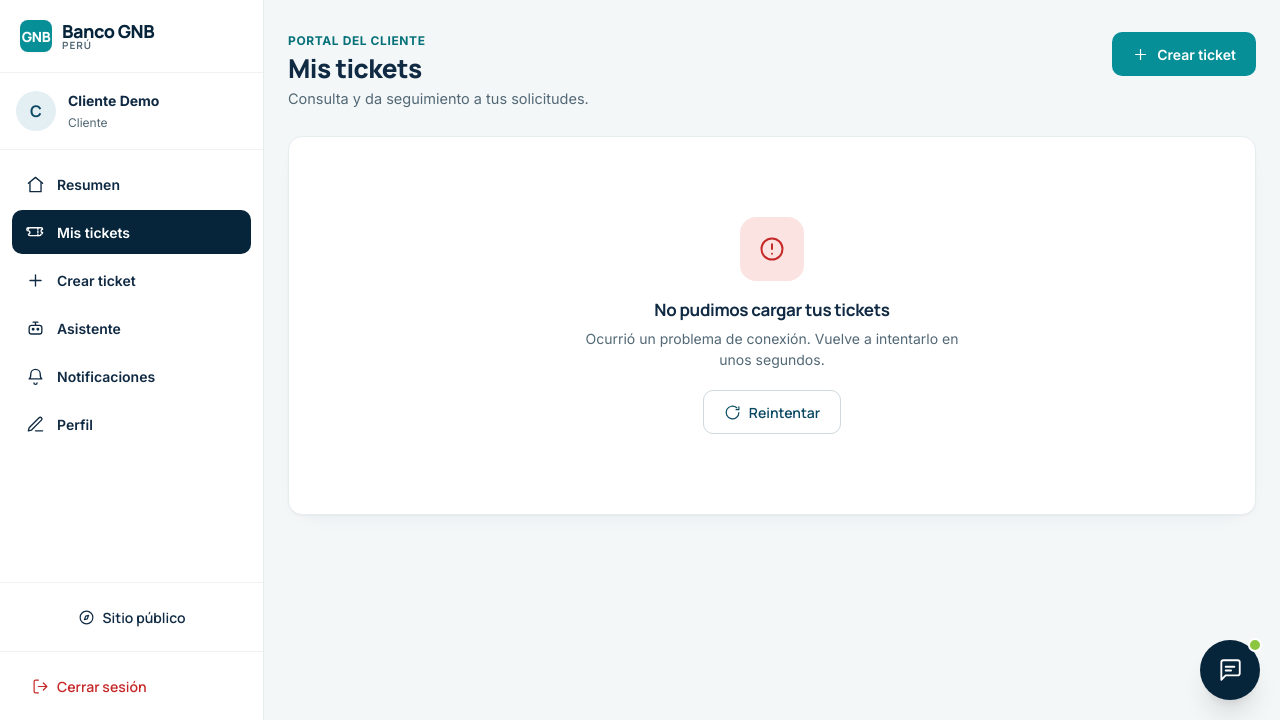
Test: bandeja de tickets del cliente › muestra error y reintenta la bandeja
Expected: the message shows "No pudimos cargar tus tickets", [654,298,890,321]
Click the button "Reintentar": (772, 412) [703,390,841,434]
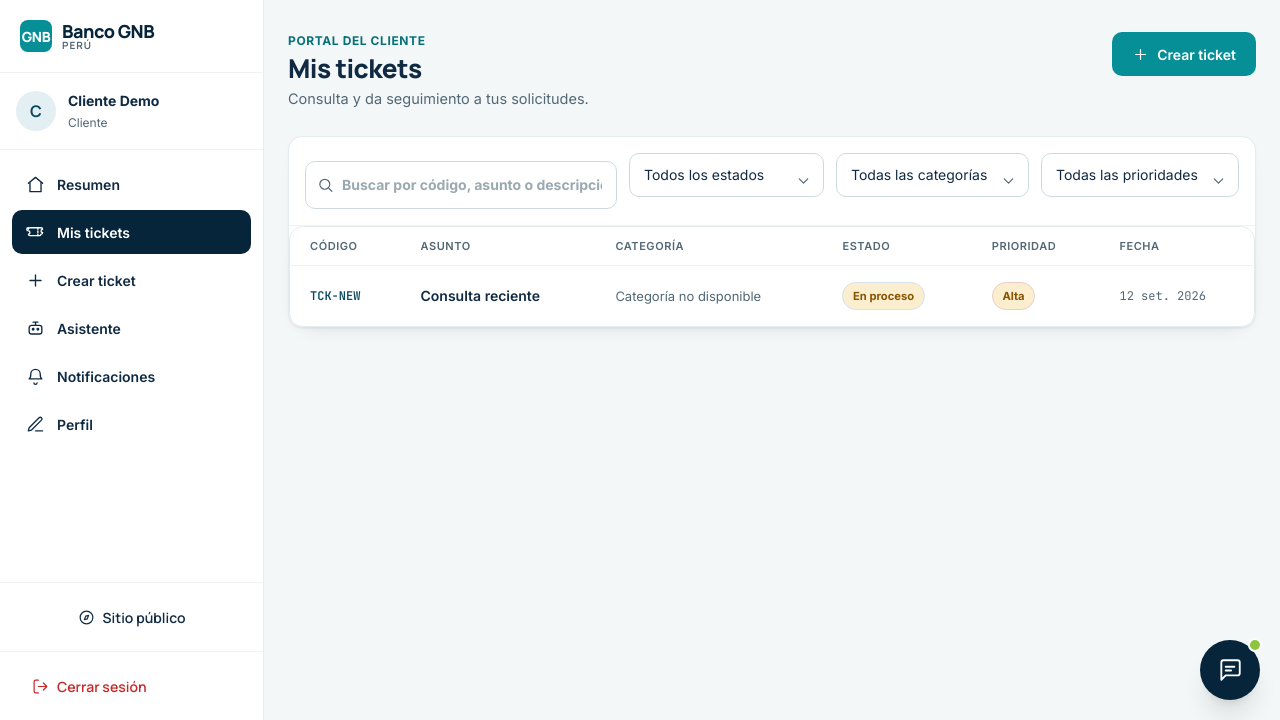
Expected: the link "TCK-NEW" is shown, [310,288,360,304]
